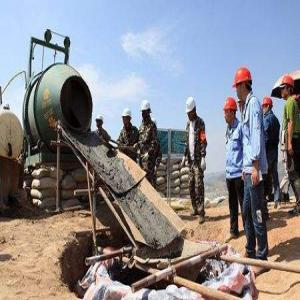red: (235, 67, 255, 103), (280, 74, 296, 102), (224, 96, 238, 127), (261, 96, 274, 119)
white: (140, 99, 153, 125), (186, 97, 198, 123), (122, 108, 133, 129), (97, 114, 105, 130)
